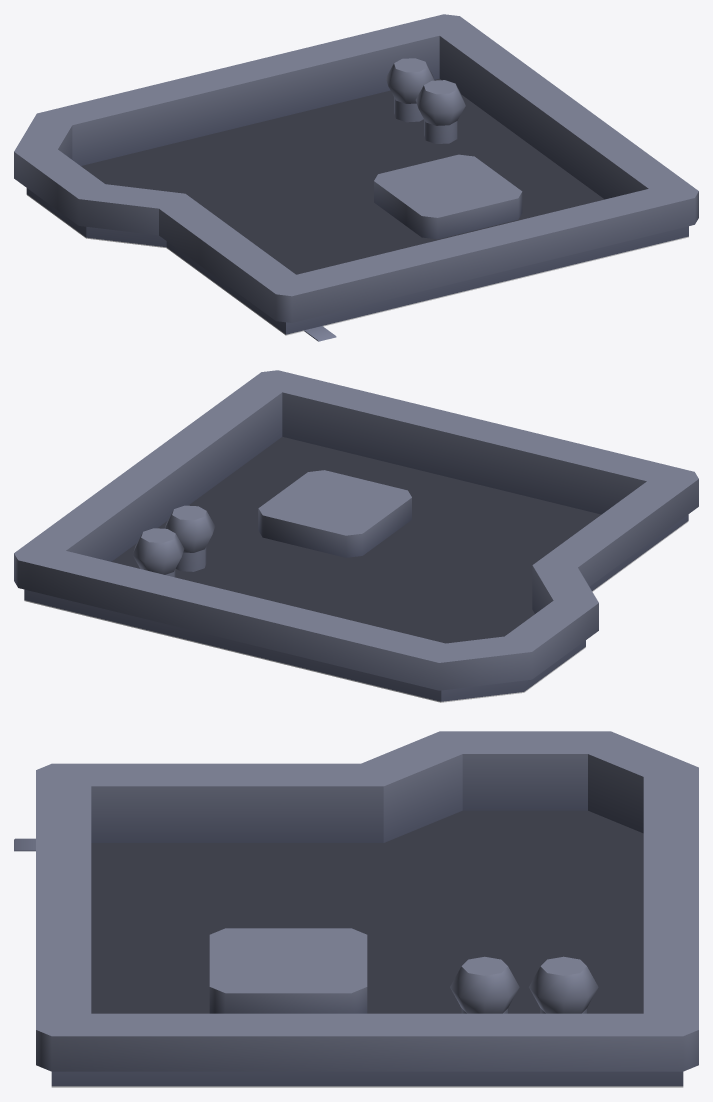
File: commercial-c.glb
The picture shows the model from 3 angles, top to bottom: view 1: azimuth 30°, elevation 25°; view 2: azimuth 150°, elevation 25°; view 3: azimuth 270°, elevation 25°; orthographic projection. The views are drawn at different scales.
Visible parts, largest first — view 1: building-c; view 2: building-c; view 3: building-c.
Boxes of the visible parts, left/top/right/bottom form: building-c: left=14, top=14, right=698, bottom=341; building-c: left=14, top=370, right=698, bottom=702; building-c: left=14, top=731, right=698, bottom=1087.
Bounding box in the file's own units: 10.35 × 1.06 × 9.82.
1 material, 1 textured.
